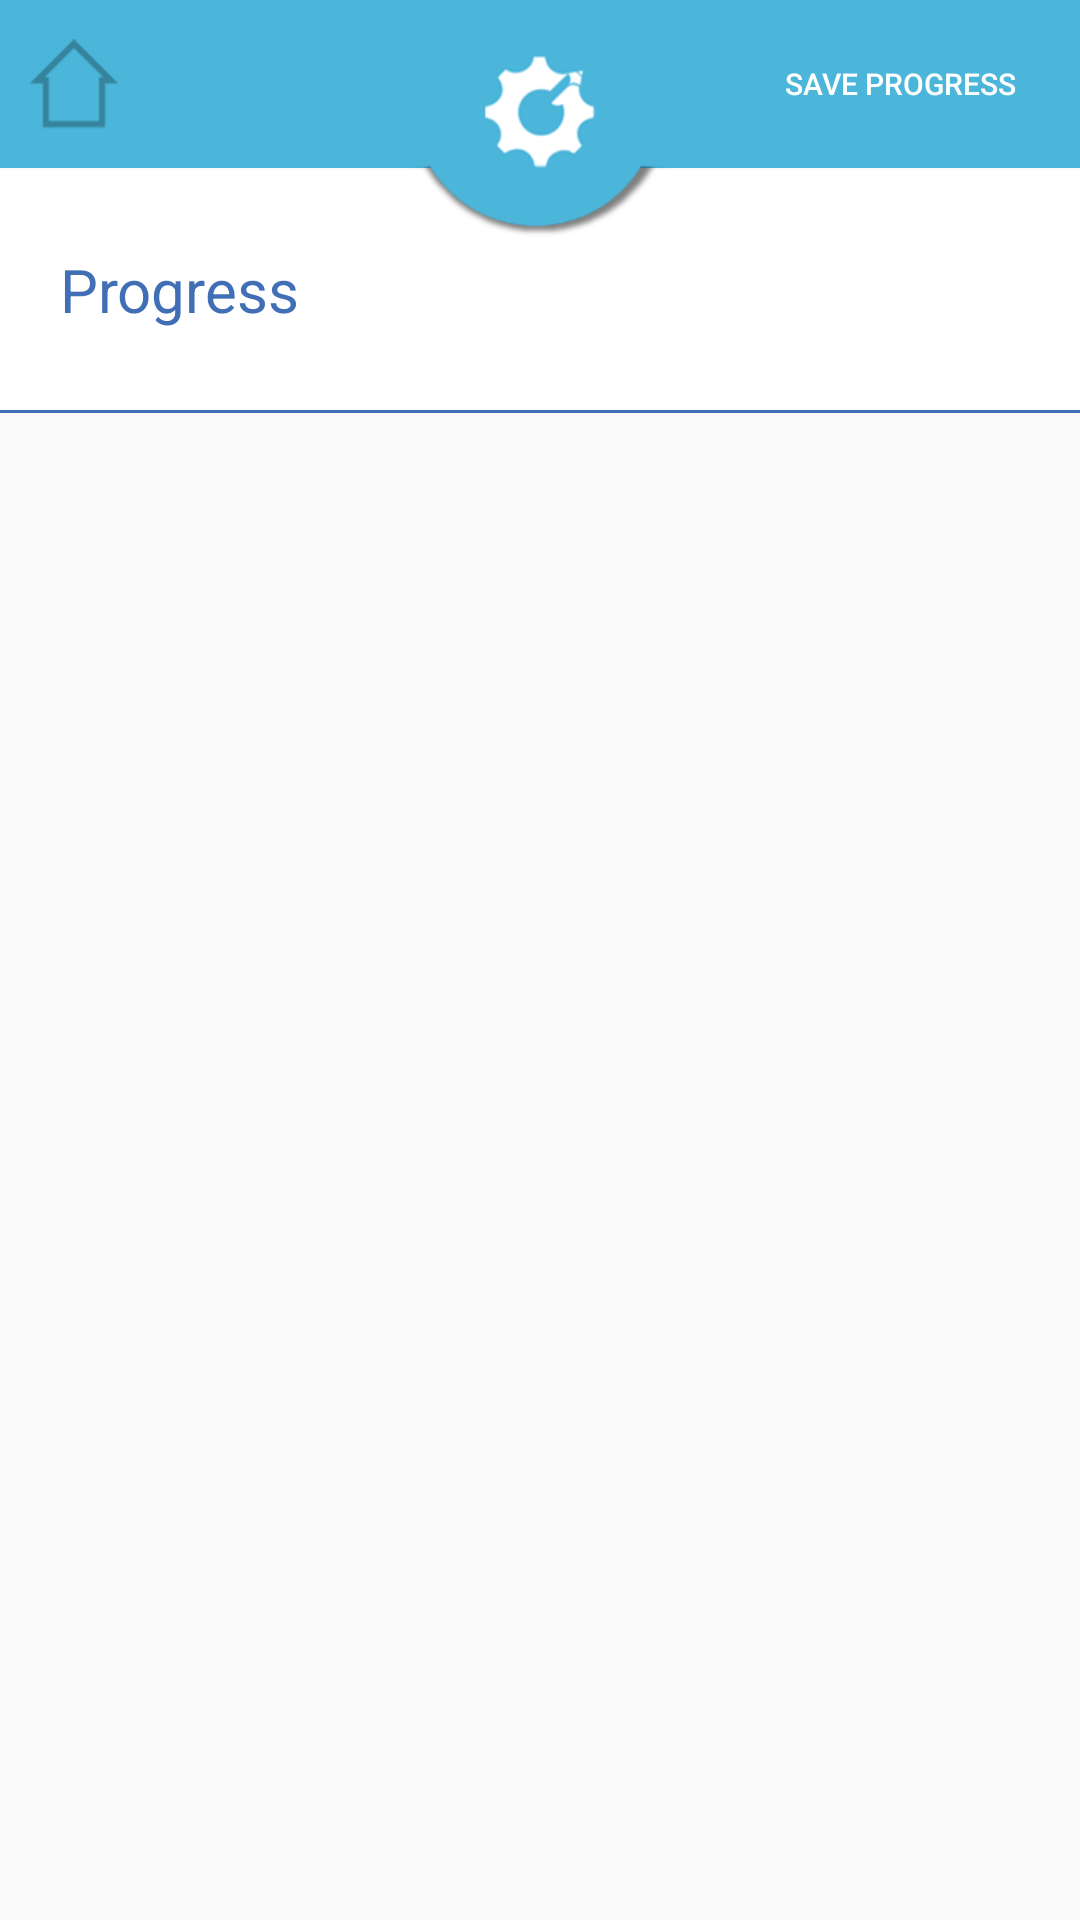

Where to tap for icons on this 1080×1920 app screen, as (x=x, y=y):
home: (x=74, y=83)
